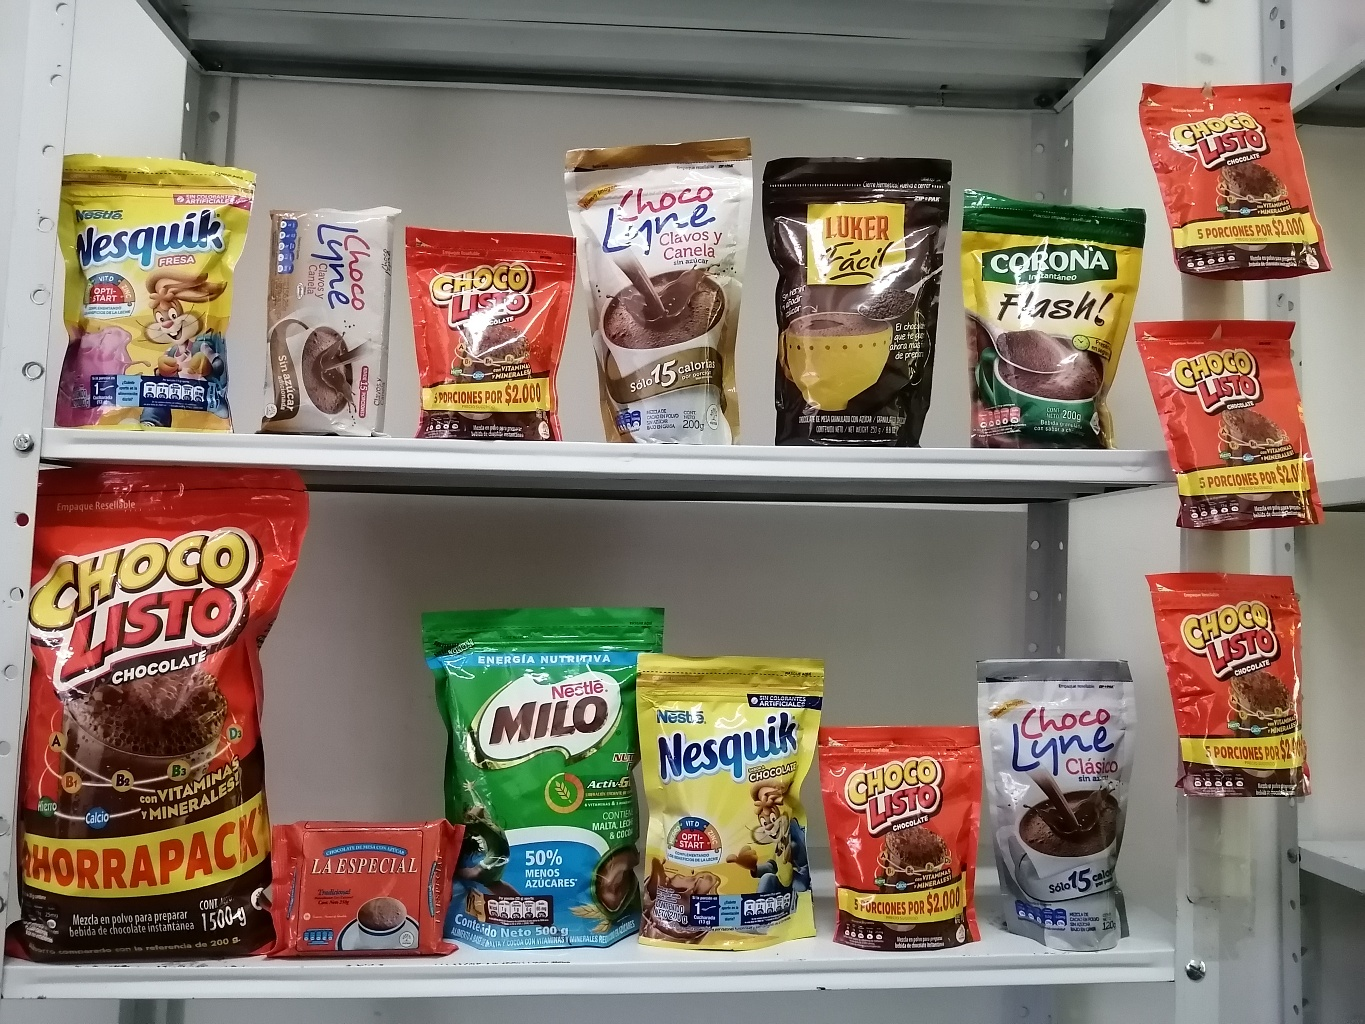COL0170103DYP1,500: (15, 463, 310, 975)
COL0170205DYP50000: (418, 603, 668, 956)
COL0170303DYP20000: (632, 649, 830, 953)
COL0170305DYP20000: (47, 138, 264, 446)
